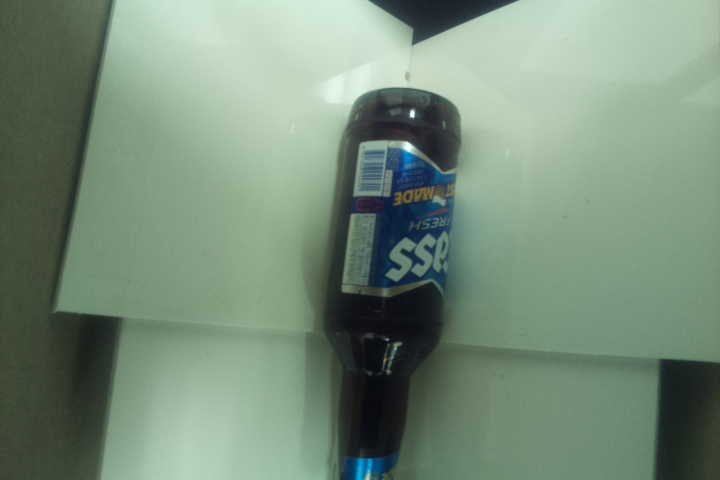makju: (322, 86, 465, 480)
